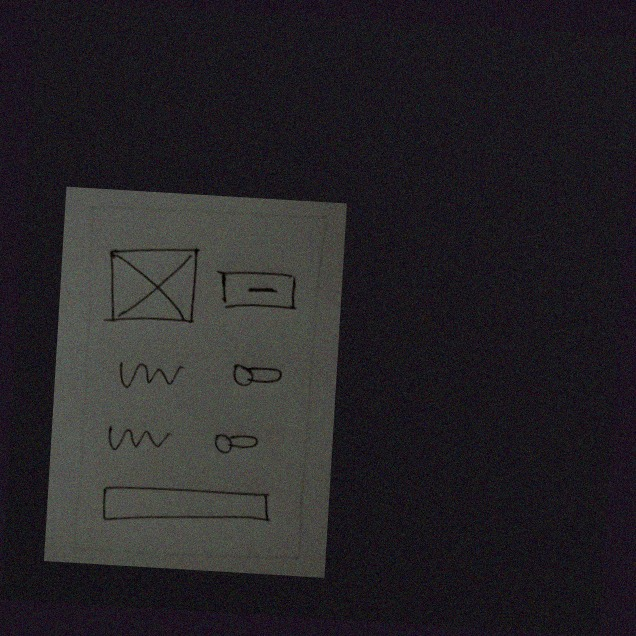button: (213, 265, 303, 316)
image: (101, 242, 203, 333)
switch: (225, 360, 287, 396), (208, 427, 262, 462)
text: (113, 358, 190, 394), (104, 422, 173, 459)
text_input: (98, 482, 275, 535)
